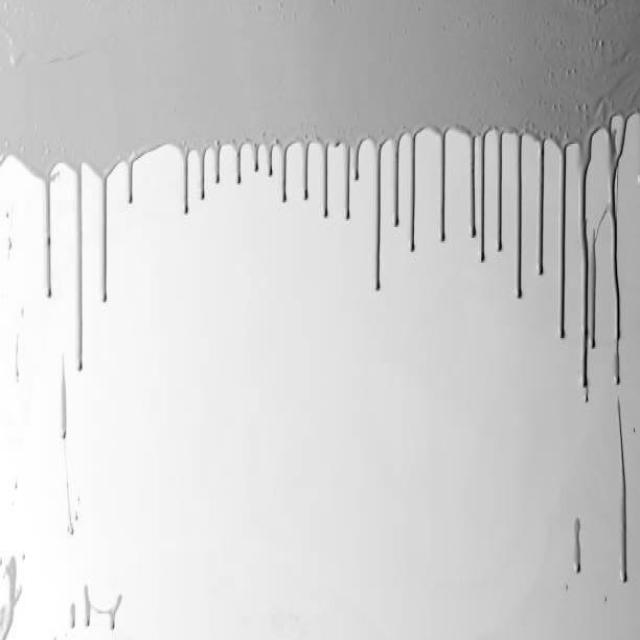paint drips: (198, 123, 571, 351), (6, 136, 191, 382), (574, 106, 640, 404), (606, 396, 638, 602), (67, 579, 128, 635), (52, 348, 78, 456), (564, 505, 590, 583)
